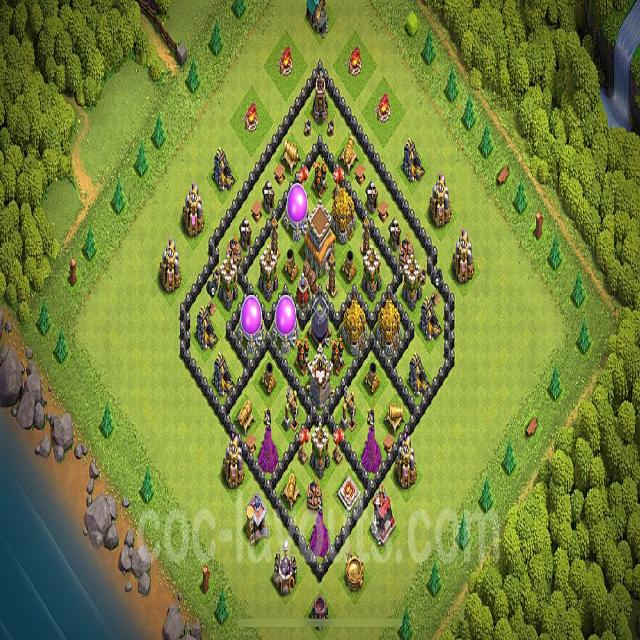air_defense: (311, 152, 329, 201), (293, 332, 311, 380), (329, 334, 346, 378)
air_sweeper: (295, 271, 312, 315)
archer_tower: (401, 250, 423, 314), (309, 417, 330, 483), (361, 243, 381, 306), (258, 243, 278, 302), (218, 254, 238, 312)
army_camp: (276, 41, 296, 83), (242, 99, 261, 138), (346, 43, 362, 82), (374, 89, 391, 125)
barracks: (244, 491, 268, 554)
builders_hut: (365, 177, 379, 217), (388, 212, 401, 254), (239, 214, 252, 253), (262, 178, 276, 214)
cannon: (338, 127, 360, 180), (234, 395, 258, 439), (280, 470, 303, 514), (280, 134, 302, 179), (384, 398, 406, 440)
clan_castle: (307, 348, 333, 412)
dark_barracks: (369, 483, 396, 550)
dark_elixir_drill: (338, 386, 358, 436), (282, 384, 301, 436)
dark_elixir_storage: (309, 293, 331, 347)
dark_spell_factory: (307, 593, 335, 635)
elixir_collector: (451, 225, 475, 290), (158, 235, 182, 298), (429, 169, 453, 232), (221, 433, 246, 492), (181, 180, 205, 240), (395, 436, 417, 492)
elixir_storage: (282, 183, 312, 242), (237, 296, 265, 354), (272, 294, 299, 354)
gold_mine: (210, 145, 236, 196), (194, 304, 219, 354), (402, 136, 426, 188), (211, 352, 235, 402), (419, 295, 442, 346), (407, 351, 430, 400)
gold_storage: (341, 294, 368, 358), (376, 294, 403, 358), (330, 186, 357, 245)
laboratory: (272, 538, 298, 600)
mortar: (361, 356, 383, 404), (338, 244, 360, 288), (259, 356, 278, 401), (282, 242, 301, 287)
spell_factory: (342, 545, 367, 596)
town_hall: (304, 198, 336, 278)
wizard_tower: (360, 408, 382, 475), (258, 407, 278, 473), (310, 499, 330, 560)
